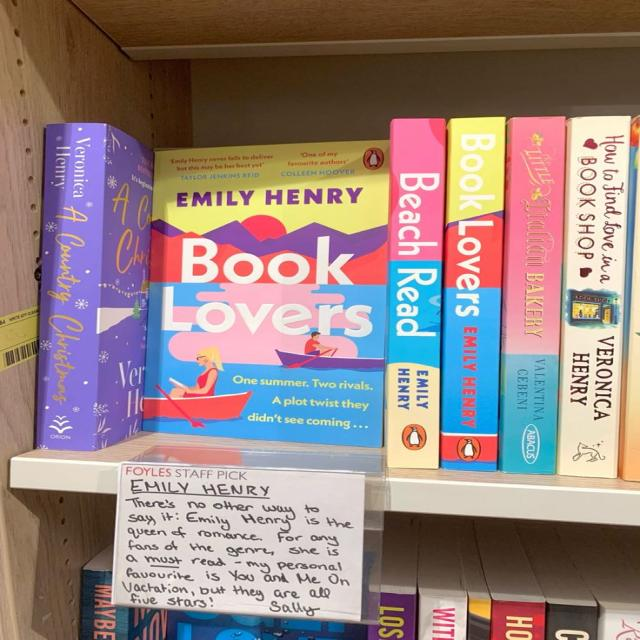book: (556, 116, 630, 478), (38, 123, 106, 450), (508, 116, 558, 474), (450, 116, 498, 472), (392, 120, 438, 469)
